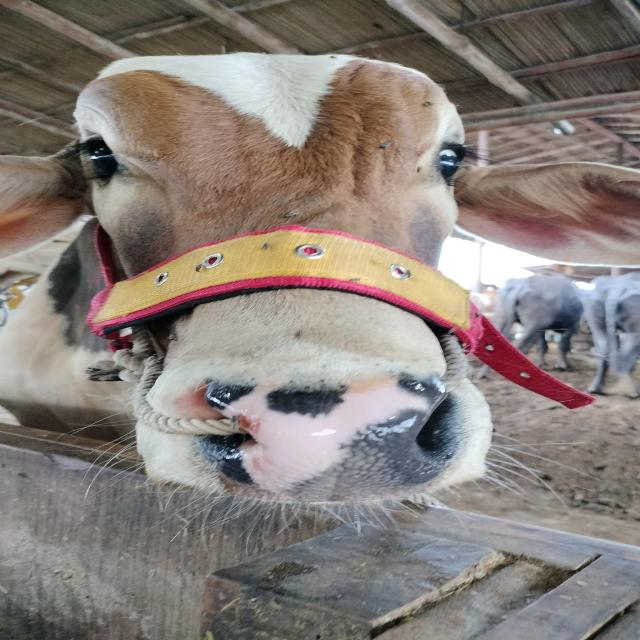muzzles: (156, 368, 473, 509)
